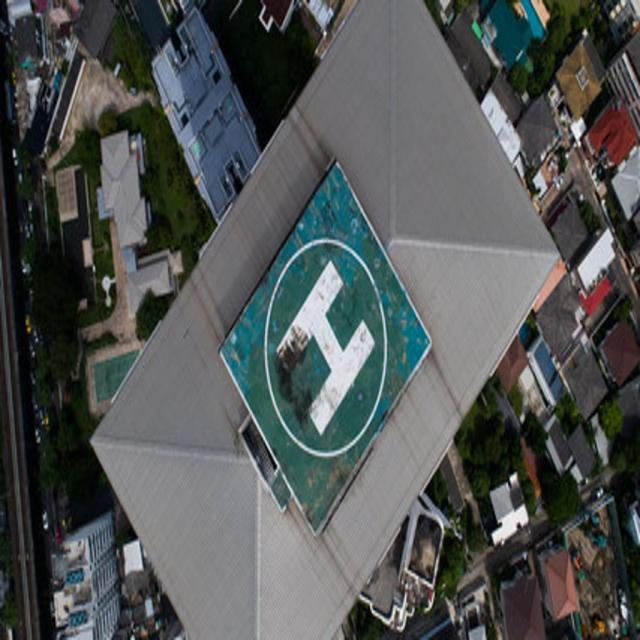helipad: (262, 237, 389, 457)
